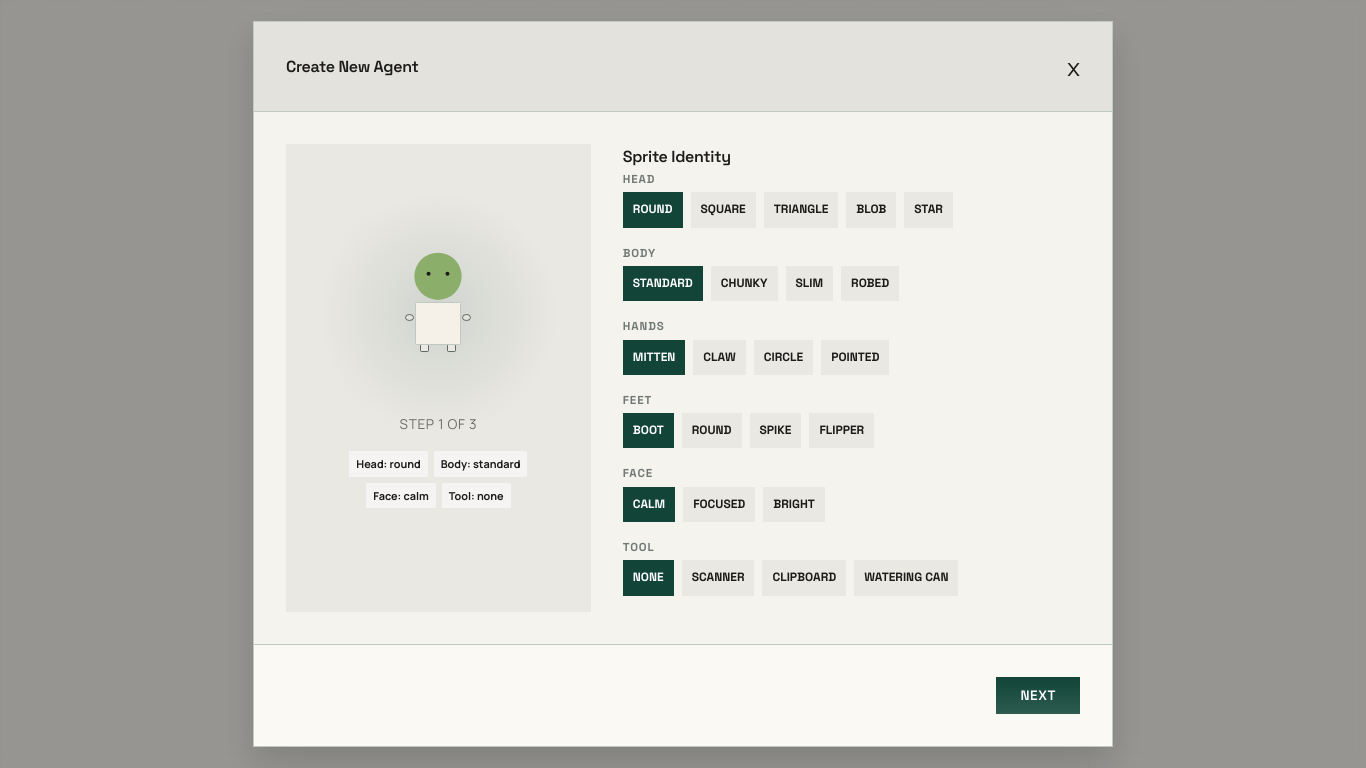
Test: AgentCreator › renders sprite variant choices and updates the live preview
Expected: the picture named "agent sprite preview" is shown, [363,248,513,398]
Expected: the button named "choose body robed" is shown, [841,266,899,301]
Step 1. Click the button named "choose head star" → (929, 210), box [904,192,953,228]
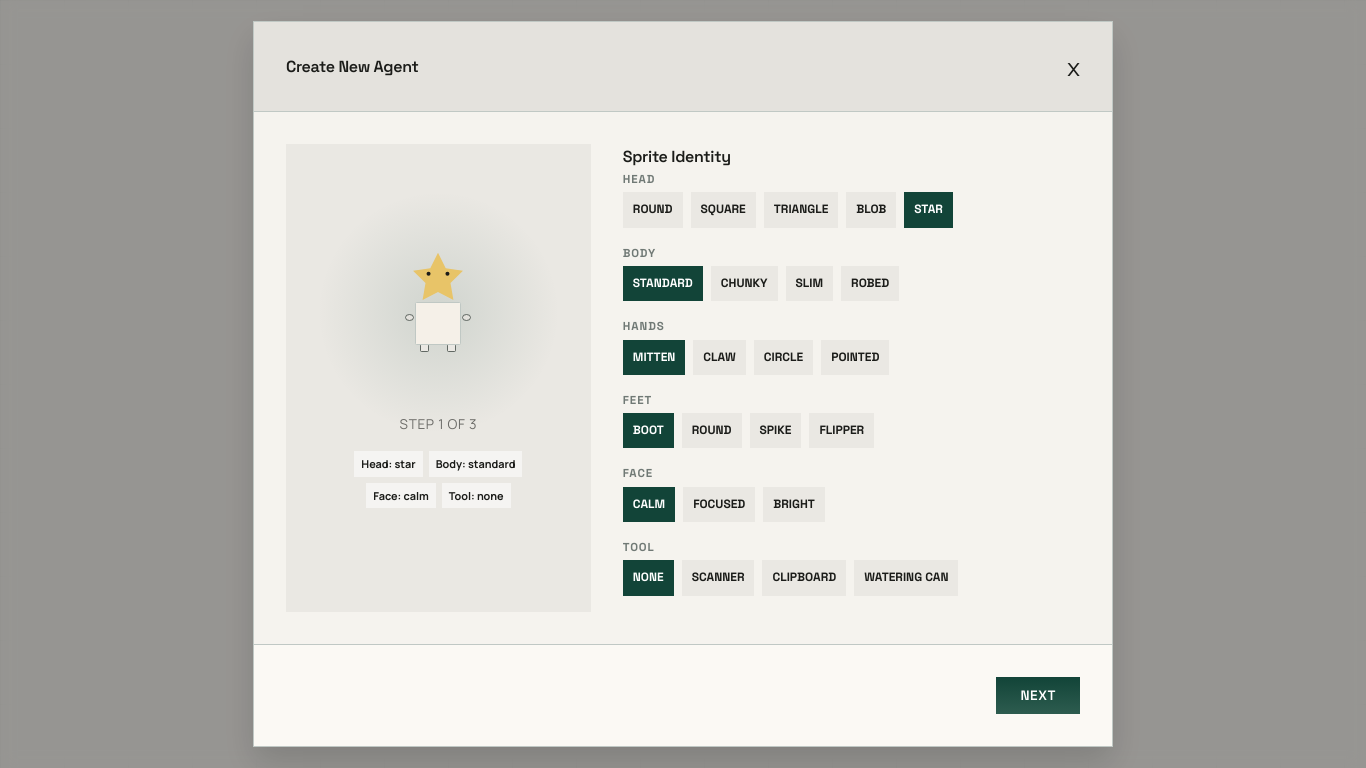
Step 2. Click the button named "choose body robed" → (870, 284), box [841,266,899,301]
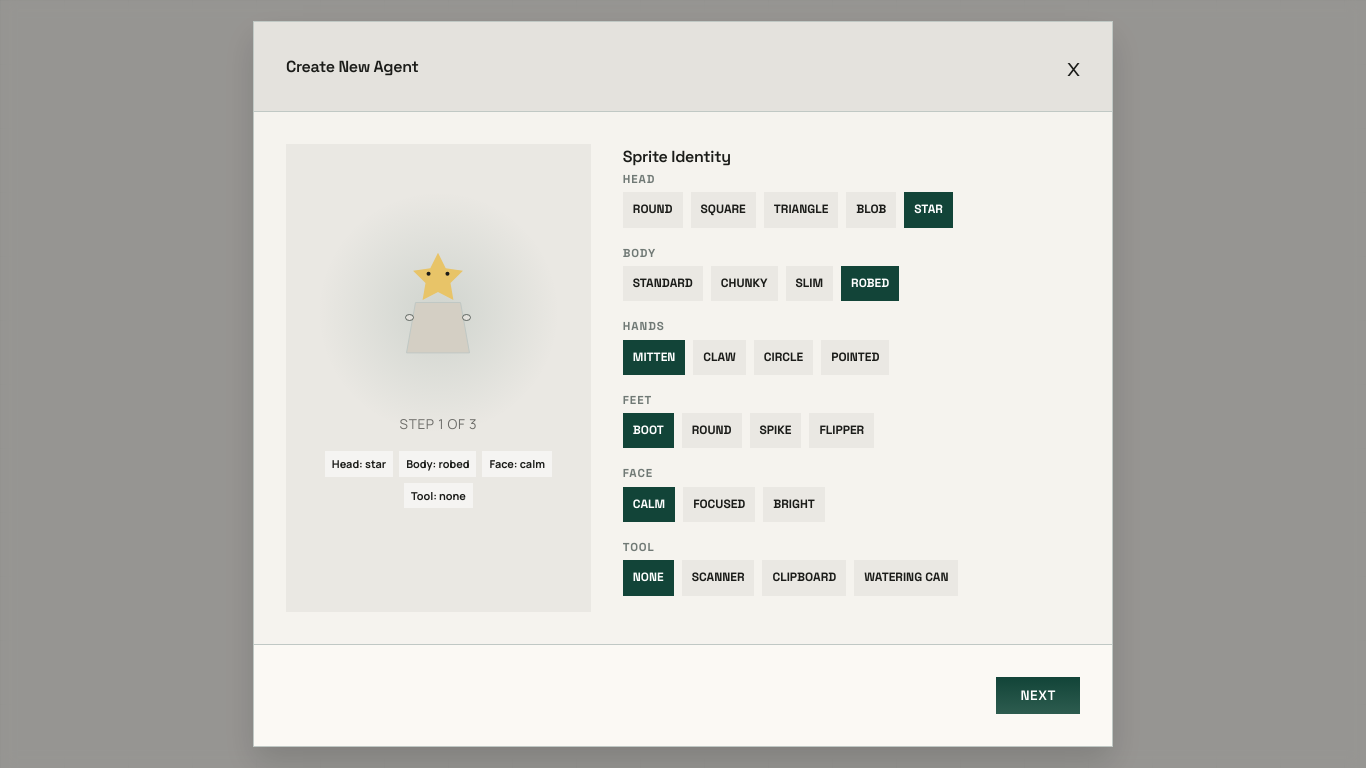
Result: the text "Head: star" is shown at [325,451,393,477]
Result: the text "Body: robed" is shown at [399,451,476,477]
